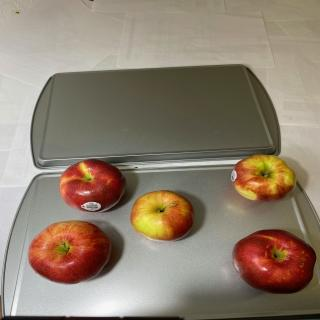Apple: (28, 220, 112, 285), (232, 229, 316, 294), (58, 158, 126, 212), (130, 190, 194, 242), (230, 154, 296, 202)
